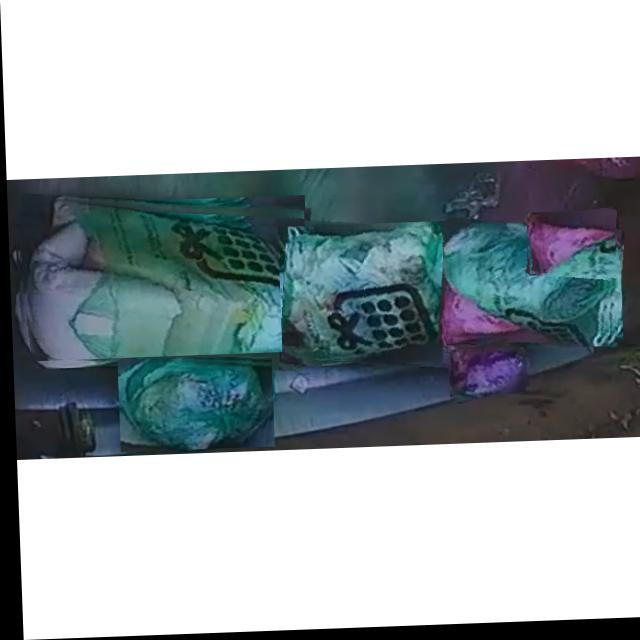general_trashbag: (22, 200, 306, 361), (280, 227, 451, 364), (441, 226, 611, 350), (116, 361, 266, 451), (595, 341, 607, 350)
other_trashbag: (524, 222, 614, 278), (449, 355, 521, 400)
